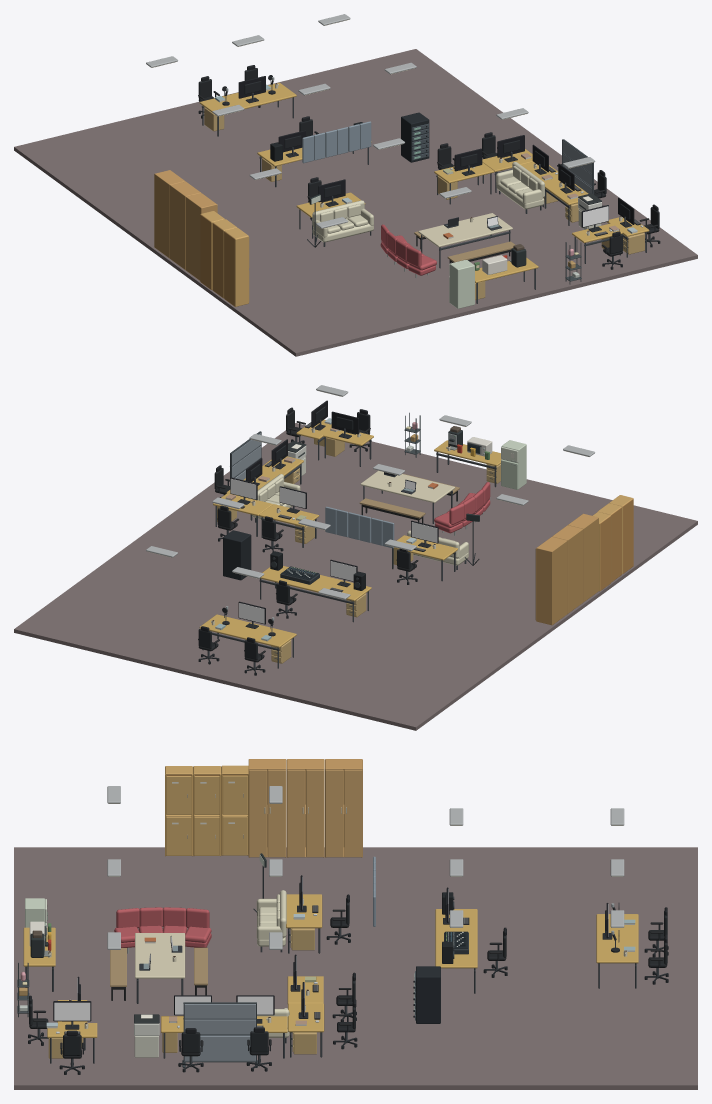
Rendered from hnubs-main-room.glb.
3 renders of one model, top to bottom at view 1: azimuth 30°, elevation 25°; view 2: azimuth 150°, elevation 25°; view 3: azimuth 270°, elevation 25°, orthographic. The views are drawn at different scales.
Visible parts, largest first — view 1: 방송국 바닥, 상판 (×4), 수납장 뒤판 (×3), 후면 판 (×3), 냉장고 몸체, 좌측 판, 랙 본체, 나무 벤치 좌판; view 2: 방송국 바닥, 상판 (×6), 수납장 뒤판 (×3), 후면 판 (×3), 랙 본체, 수납장 오른쪽 판, 냉장고 몸체; view 3: 방송국 바닥, 긴 목재 문 (×6), 상판 (×8), 사물함 문 (×6), 회색 흡음 칸막이 (×2), 하부 흡음판, 랙 본체, 나무 벤치 좌판 (×2), 서랍장 (×2), LCD 화면, 프린터 받침장, 냉장고 몸체.
Boxes of the visible parts, x1,y1,x2,y2 form: 방송국 바닥: (14, 49, 697, 356); 상판 (×4): (199, 82, 538, 282); 수납장 뒤판 (×3): (154, 173, 201, 280); 후면 판 (×3): (200, 214, 234, 306); 냉장고 몸체: (450, 260, 474, 308); 좌측 판: (235, 236, 248, 306); 랙 본체: (401, 112, 429, 162); 나무 벤치 좌판: (447, 241, 515, 262); 방송국 바닥: (14, 423, 697, 730); 상판 (×6): (199, 440, 501, 647); 수납장 뒤판 (×3): (551, 517, 598, 625); 후면 판 (×3): (600, 498, 633, 590); 랙 본체: (223, 530, 251, 580); 수납장 오른쪽 판: (536, 548, 551, 625); 냉장고 몸체: (501, 440, 526, 488); 방송국 바닥: (14, 847, 697, 1089); 긴 목재 문 (×6): (249, 769, 362, 857); 상판 (×8): (23, 894, 638, 1037); 사물함 문 (×6): (166, 775, 247, 855); 회색 흡음 칸막이 (×2): (184, 1004, 255, 1034); 하부 흡음판: (184, 1035, 255, 1061); 랙 본체: (416, 966, 440, 1023); 나무 벤치 좌판 (×2): (110, 947, 207, 986); 서랍장 (×2): (291, 928, 316, 1054); LCD 화면: (54, 1002, 90, 1020); 프린터 받침장: (134, 1036, 158, 1057); 냉장고 몸체: (25, 898, 44, 927).
Bounding box in the file's own units: 14 × 2.85 × 17.
